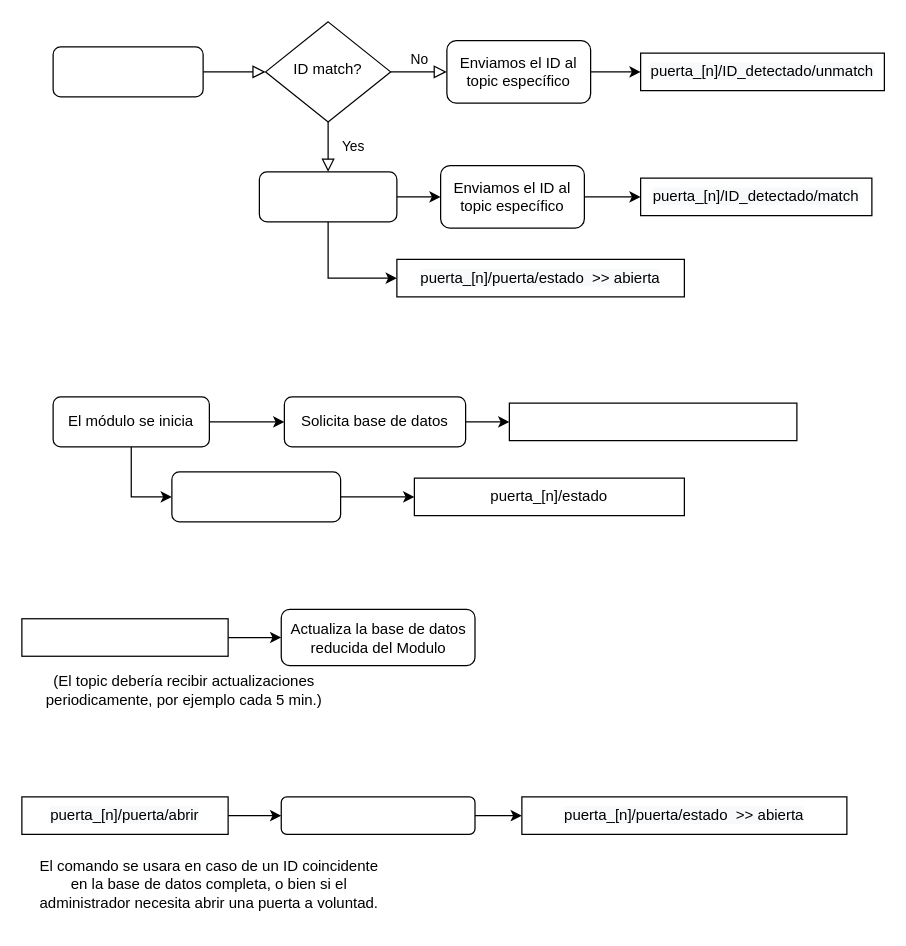
The diagram is 906 pixels wide and 946 high, and some of its shapes have lost their labels. Here are the shapes that lost their labels. From the top down, the box of each, then its label:
(52, 46, 203, 97): Tarjeta detectada
(258, 171, 397, 222): Puerta abierta
(508, 402, 797, 441): puerta_[n]/IDs_cache/update
(171, 471, 341, 522): Actualiza su estado
(21, 618, 228, 656): puerta_[n]/IDs_cache
(280, 796, 475, 834): Se fuerza la apertura
